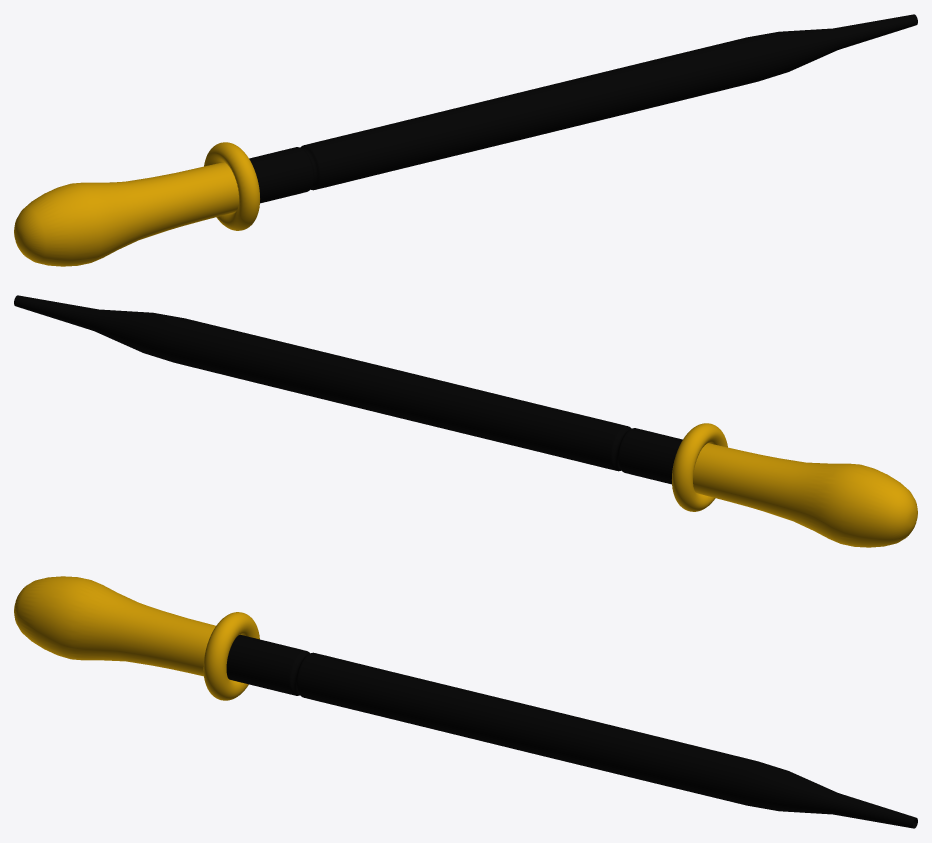
File: pipette.fbx
3 views of the same model, one above another, from view 1: azimuth 30°, elevation 25°; view 2: azimuth 150°, elevation 25°; view 3: azimuth 330°, elevation 25° (orthographic).
Visible parts, largest first — view 1: Pasteur Pipette; view 2: Pasteur Pipette; view 3: Pasteur Pipette.
Boxes of the visible parts, <box> form: Pasteur Pipette: <box>14,14,917,266</box>; Pasteur Pipette: <box>14,295,917,547</box>; Pasteur Pipette: <box>14,576,917,828</box>.
Bounding box in the file's own units: 135 × 11.76 × 11.76.
